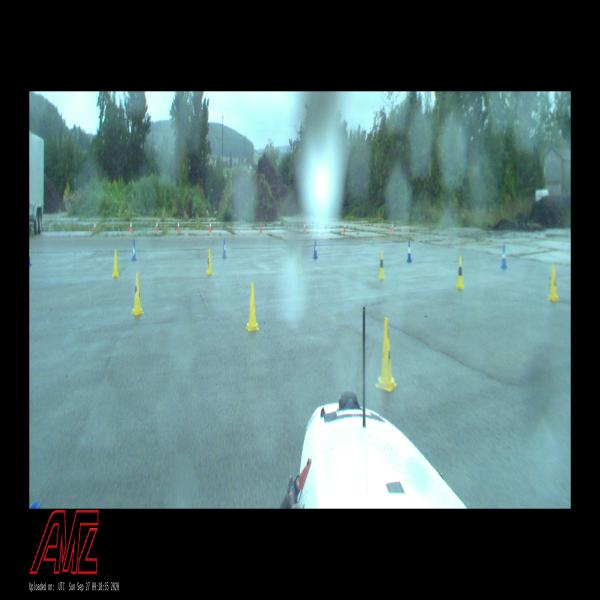blue_cone: (501, 246, 507, 270), (222, 238, 227, 260), (407, 241, 412, 262), (313, 240, 318, 259), (132, 242, 136, 261), (29, 244, 32, 266)
orange_cone: (303, 220, 306, 233), (391, 221, 394, 232), (209, 220, 212, 231), (343, 220, 346, 231), (156, 219, 158, 232), (130, 219, 132, 232), (260, 221, 262, 233), (178, 219, 179, 231)
yellow_cone: (376, 318, 396, 392), (246, 283, 258, 332), (132, 273, 144, 316), (548, 268, 558, 302), (456, 257, 464, 290), (112, 251, 119, 277), (378, 251, 384, 279), (207, 250, 212, 274), (297, 254, 303, 274)
